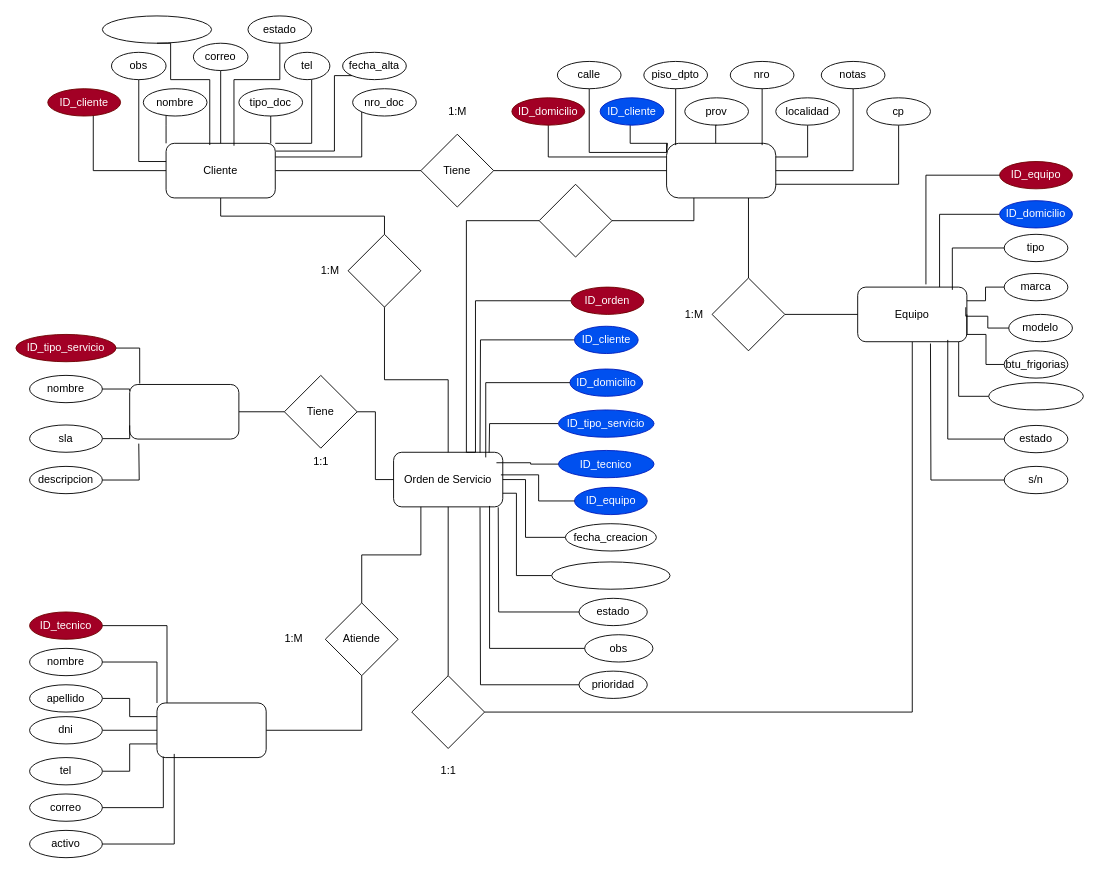
The diagram is 1099 pixels wide and 874 high, and some of its shapes have lost their labels. The shapes that lost their labels are listed below. From the top down, each one's box as (x1, y1, x2, y2) in pixels, then its label:
(101, 15, 212, 43): apellido_razon_social
(666, 142, 776, 198): Domicilio
(538, 183, 612, 257): posee
(347, 233, 421, 307): Solicita
(711, 277, 785, 351): aloja
(129, 384, 239, 439): Tipo de Servicio
(988, 382, 1083, 410): fecha_instalacion
(551, 561, 670, 589): fecha_entrega_aprox
(156, 702, 266, 758): Tecnico
(411, 675, 485, 748): Asocia
